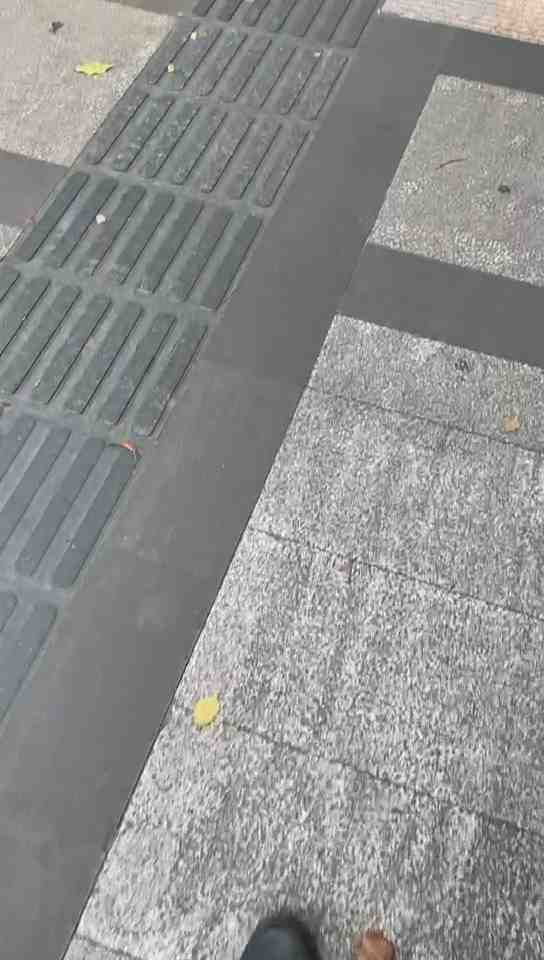leaf: (184, 690, 222, 733), (72, 57, 112, 79), (497, 413, 523, 438)
